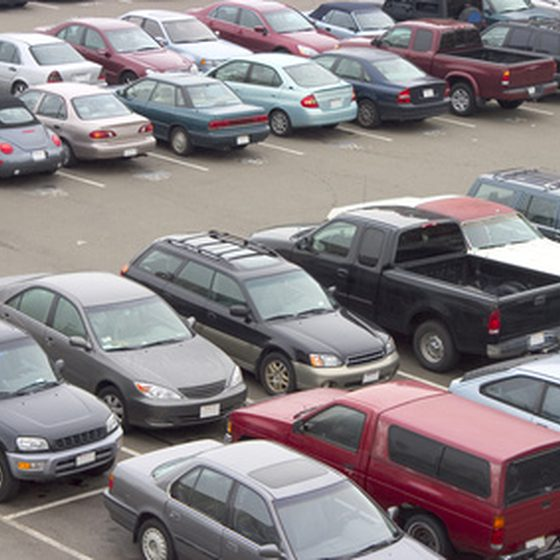car: (233, 382, 560, 556), (248, 210, 555, 369), (119, 227, 404, 394), (106, 437, 438, 558), (1, 271, 247, 430), (1, 318, 124, 503), (383, 21, 556, 113), (111, 75, 270, 156), (15, 82, 156, 167), (206, 53, 356, 132), (31, 17, 200, 81), (321, 49, 451, 129), (125, 9, 253, 69), (192, 1, 339, 51), (1, 93, 65, 184), (1, 34, 108, 88)
